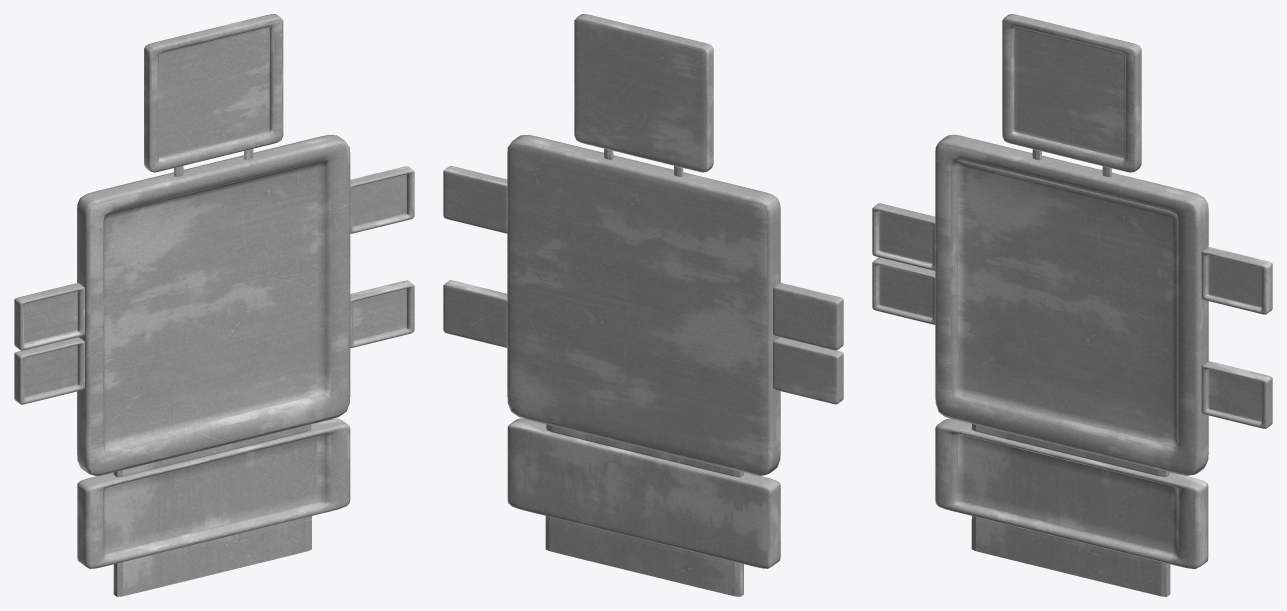
Rendered from console.fbx.
3 views of the same model, side by side, from view 1: azimuth 30°, elevation 25°; view 2: azimuth 150°, elevation 25°; view 3: azimuth 330°, elevation 25° (orthographic).
Visible parts, largest first — view 1: Cube.015; view 2: Cube.015; view 3: Cube.015.
Boxes of the visible parts, box(x1,y1,x2,y2) form: Cube.015: box(14, 14, 414, 596); Cube.015: box(443, 14, 843, 596); Cube.015: box(872, 14, 1272, 596).
Size of the model in its own units: 299 by 391 by 15.08.
Materials: 1 (1 with a texture image).
